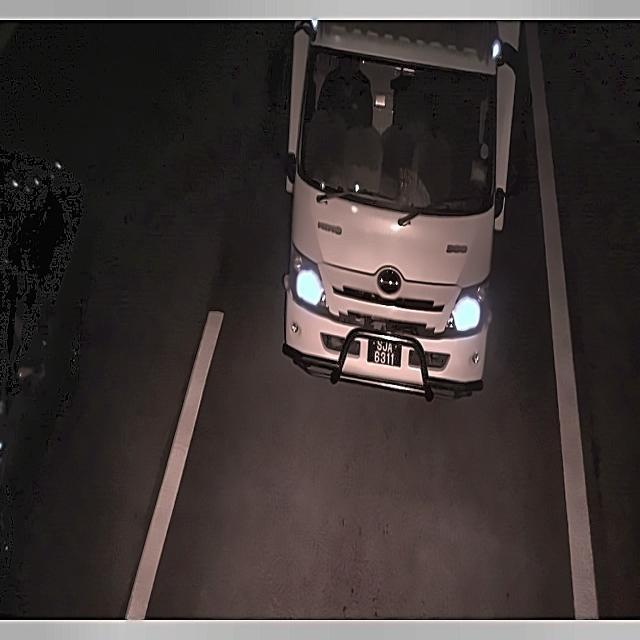car: (361, 327, 399, 371)
